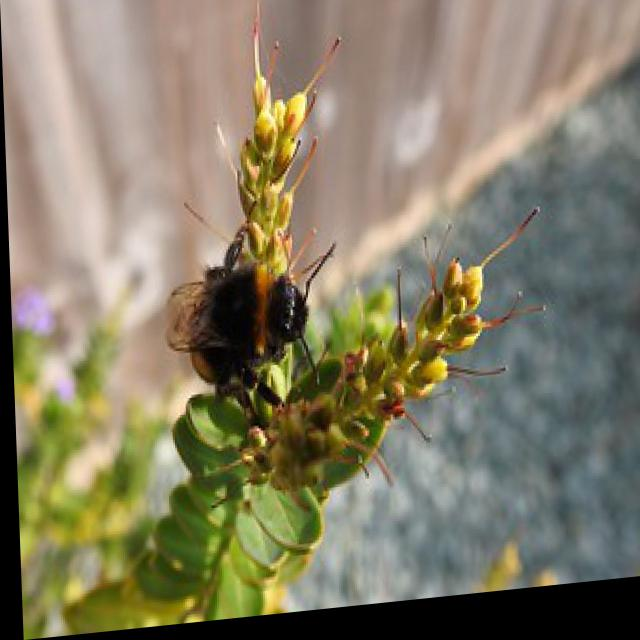Abeille: (150, 204, 364, 454)
